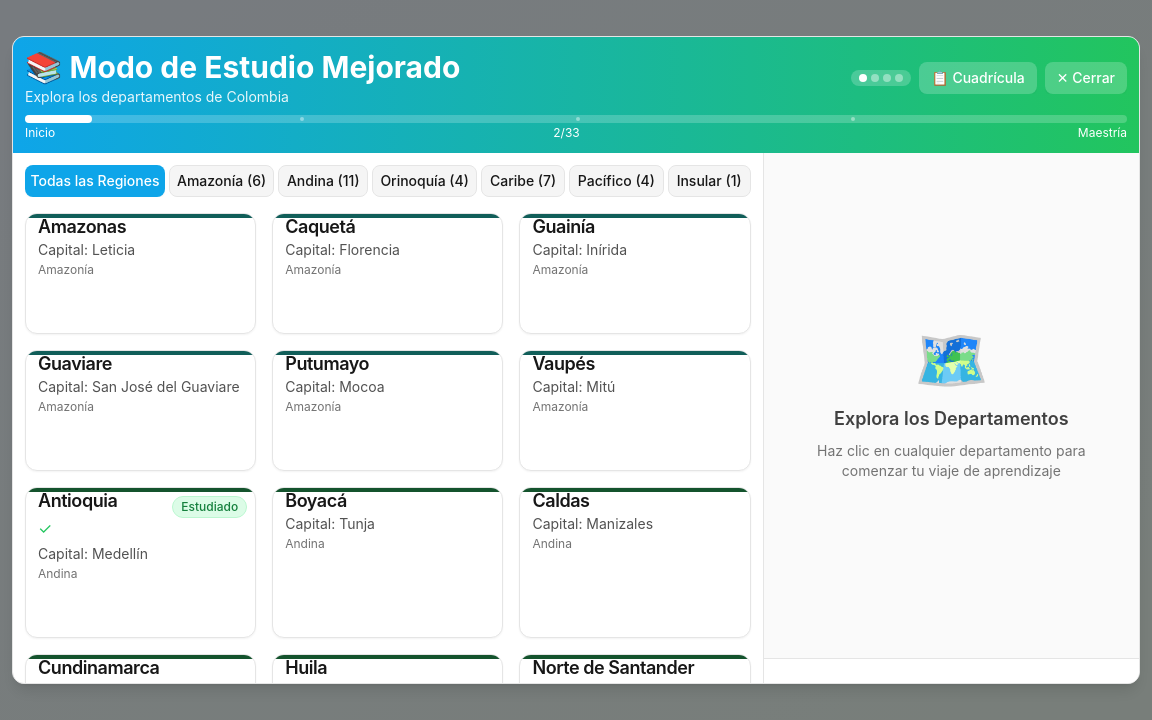
Test: StudyMode Component › View Mode Switching › should switch to grid view when button clicked
Click the button "📋 Cuadrícula" at (978, 78), box [919,62,1037,94]
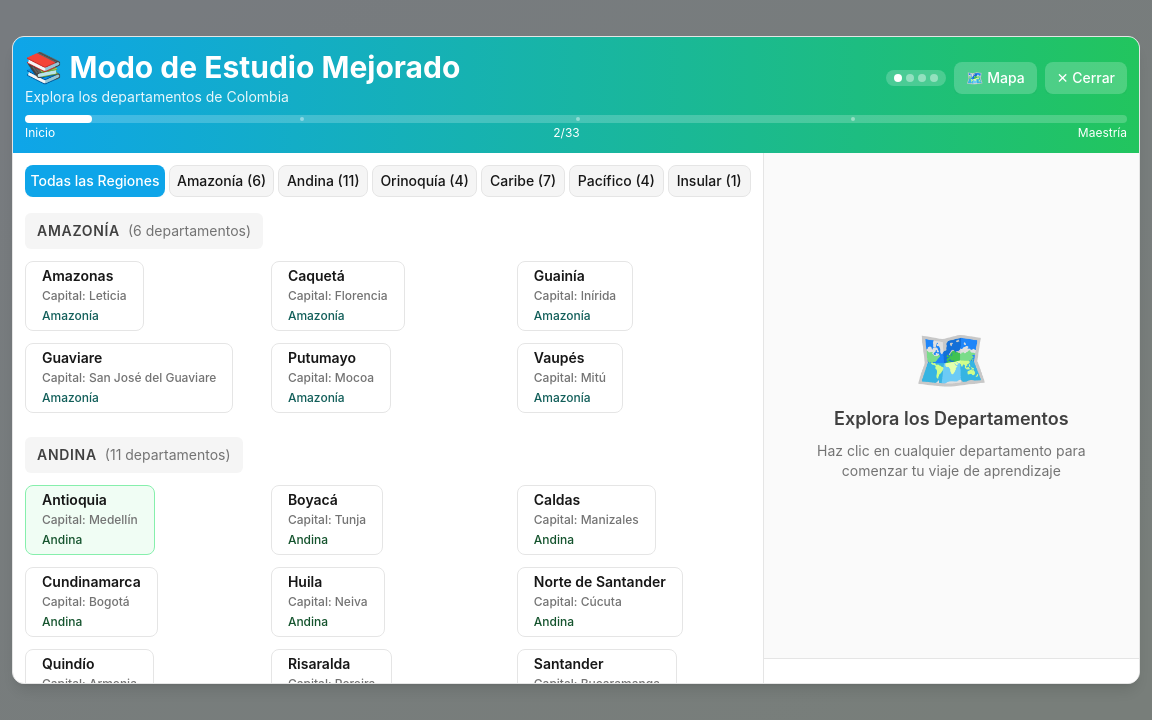
Result: the button "🗺️ Mapa" is shown at [954,62,1037,94]
